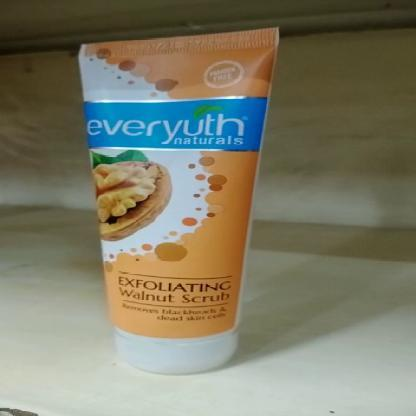EY EXF WALNUT SCRUB AYR 200G: (78, 30, 290, 376)
